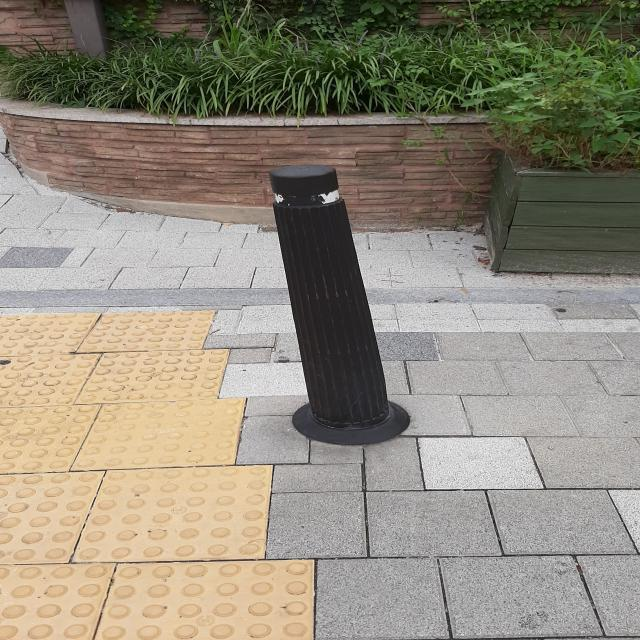pole: (268, 164, 409, 445)
